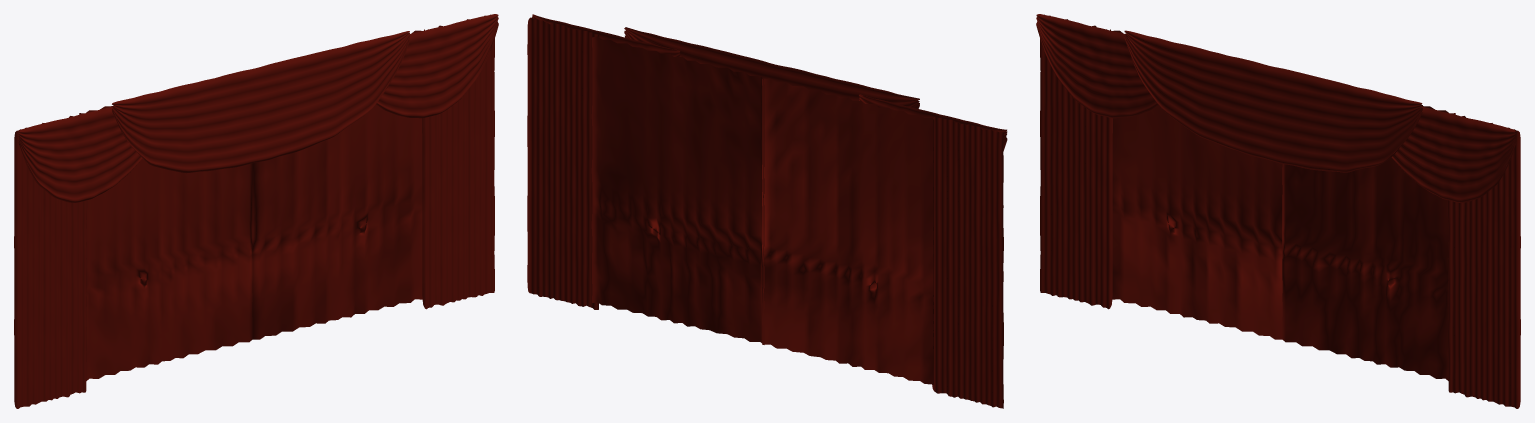
File: rose_curtains_webar.glb
The picture shows the model from 3 angles, left to right: view 1: azimuth 30°, elevation 25°; view 2: azimuth 150°, elevation 25°; view 3: azimuth 330°, elevation 25°; orthographic projection.
Parts seen in each view (by area): view 1: right_moving.001, left_moving.001, side.001, top.001, topside.001; view 2: left_moving.001, right_moving.001, side.001, top.001, topside.001; view 3: left_moving.001, right_moving.001, side.001, top.001, topside.001.
Boxes of the visible parts, x1,y1,x2,y2 form: right_moving.001: (252, 29, 424, 339); left_moving.001: (79, 106, 252, 380); side.001: (14, 14, 494, 408); top.001: (112, 31, 410, 173); topside.001: (18, 14, 498, 202); left_moving.001: (762, 78, 934, 385); right_moving.001: (591, 36, 764, 344); side.001: (527, 17, 1003, 408); top.001: (624, 27, 919, 108); topside.001: (532, 14, 1007, 151); left_moving.001: (1110, 29, 1282, 339); right_moving.001: (1282, 106, 1455, 380); side.001: (1040, 14, 1520, 408); top.001: (1124, 30, 1422, 172); topside.001: (1036, 14, 1516, 202).
Bounding box in the file's own units: 2.85 × 1.63 × 0.1061.
